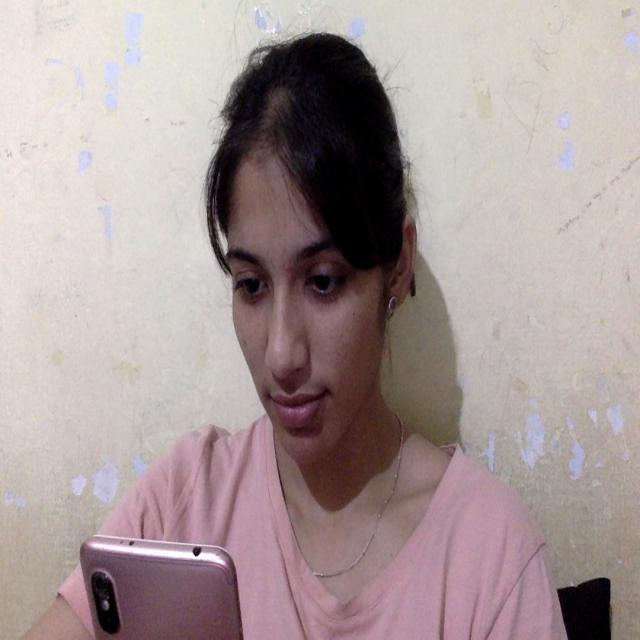Phone: (77, 532, 243, 640)
